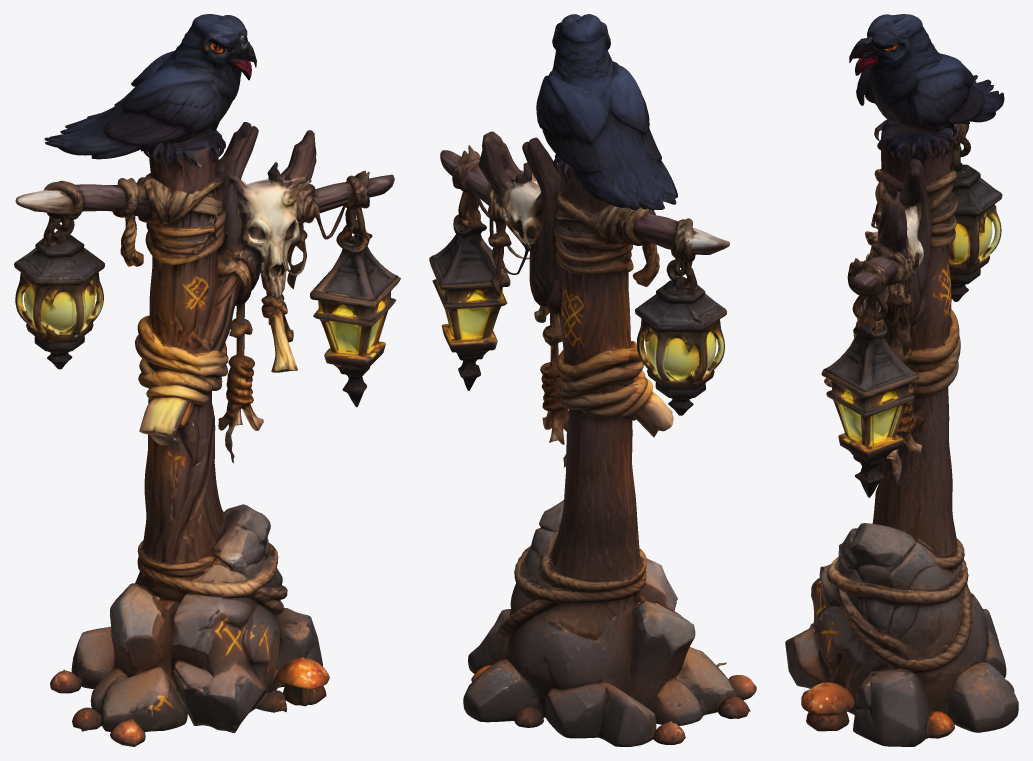
Rendered from pixellabs-fantasy-signpost-3561.high.glb.
3 renders of one model, left to right at view 1: azimuth 30°, elevation 25°; view 2: azimuth 150°, elevation 25°; view 3: azimuth 270°, elevation 25°, orthographic.
Visible parts, largest first — view 1: material; view 2: material; view 3: material.
Boxes of the visible parts, left/top/right/bottom form: material: left=14, top=14, right=400, bottom=746; material: left=429, top=14, right=756, bottom=746; material: left=785, top=14, right=1018, bottom=746.
Size of the model in its own units: 0.5869 by 1.1 by 0.3414.
1 material, 1 textured.
